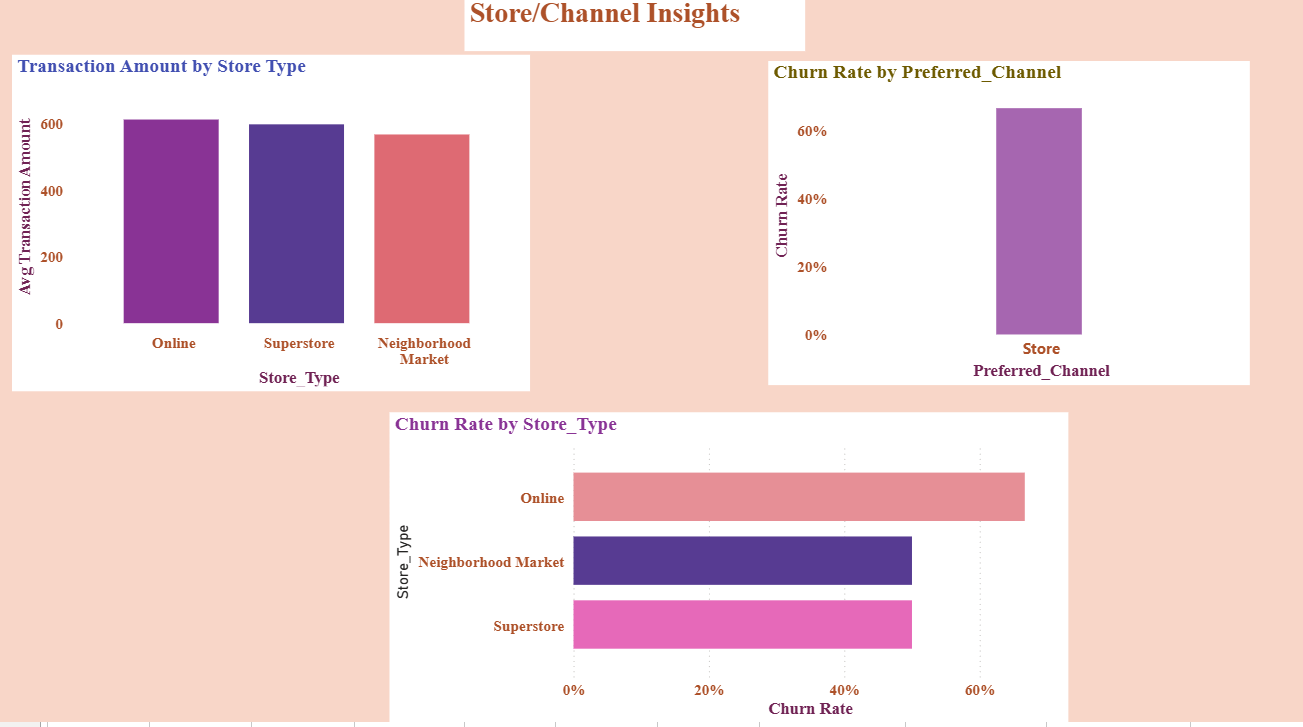

The page's visual inventory and layout, read from the dashboard file:
{"tool":"powerbi","page":{"name":"Task 7-Page 3","canvas":[1280,720],"ordinal":17},"visuals":[{"type":"columnChart","title":"Transaction Amount by Store Type","fields":{"Category":["Store_Locations.Store_Type"],"Y":["Measure.Avg Transaction Amount"]},"box":[14.8,75.5,500.1,324.9],"z":0},{"type":"barChart","fields":{"Y":["Measure.Churn Rate"],"Category":["Store_Locations.Store_Type"]},"box":[378.8,420.6,655.1,299.3],"z":1000},{"type":"columnChart","fields":{"Category":["Customer_Demographics_Merged.Preferred_Channel"],"Y":["Measure.Churn Rate"]},"box":[744.1,82.2,465.1,312.7],"z":2000},{"type":"textbox","box":[451.6,16.2,328.9,56.6],"z":2005}]}

Visuals, with their boxes in screenshot pixels (x1, y1, x2, y2), scaled from the page's 1280x720 canvas onto the 1303x727 screenshot:
"Transaction Amount by Store Type" columnChart: select_region(15, 76, 524, 404)
barChart - Measure.Churn Rate x Store_Locations.Store_Type: select_region(386, 425, 1052, 726)
columnChart - Customer_Demographics_Merged.Preferred_Channel x Measure.Churn Rate: select_region(757, 83, 1231, 399)
textbox: select_region(460, 16, 795, 74)
